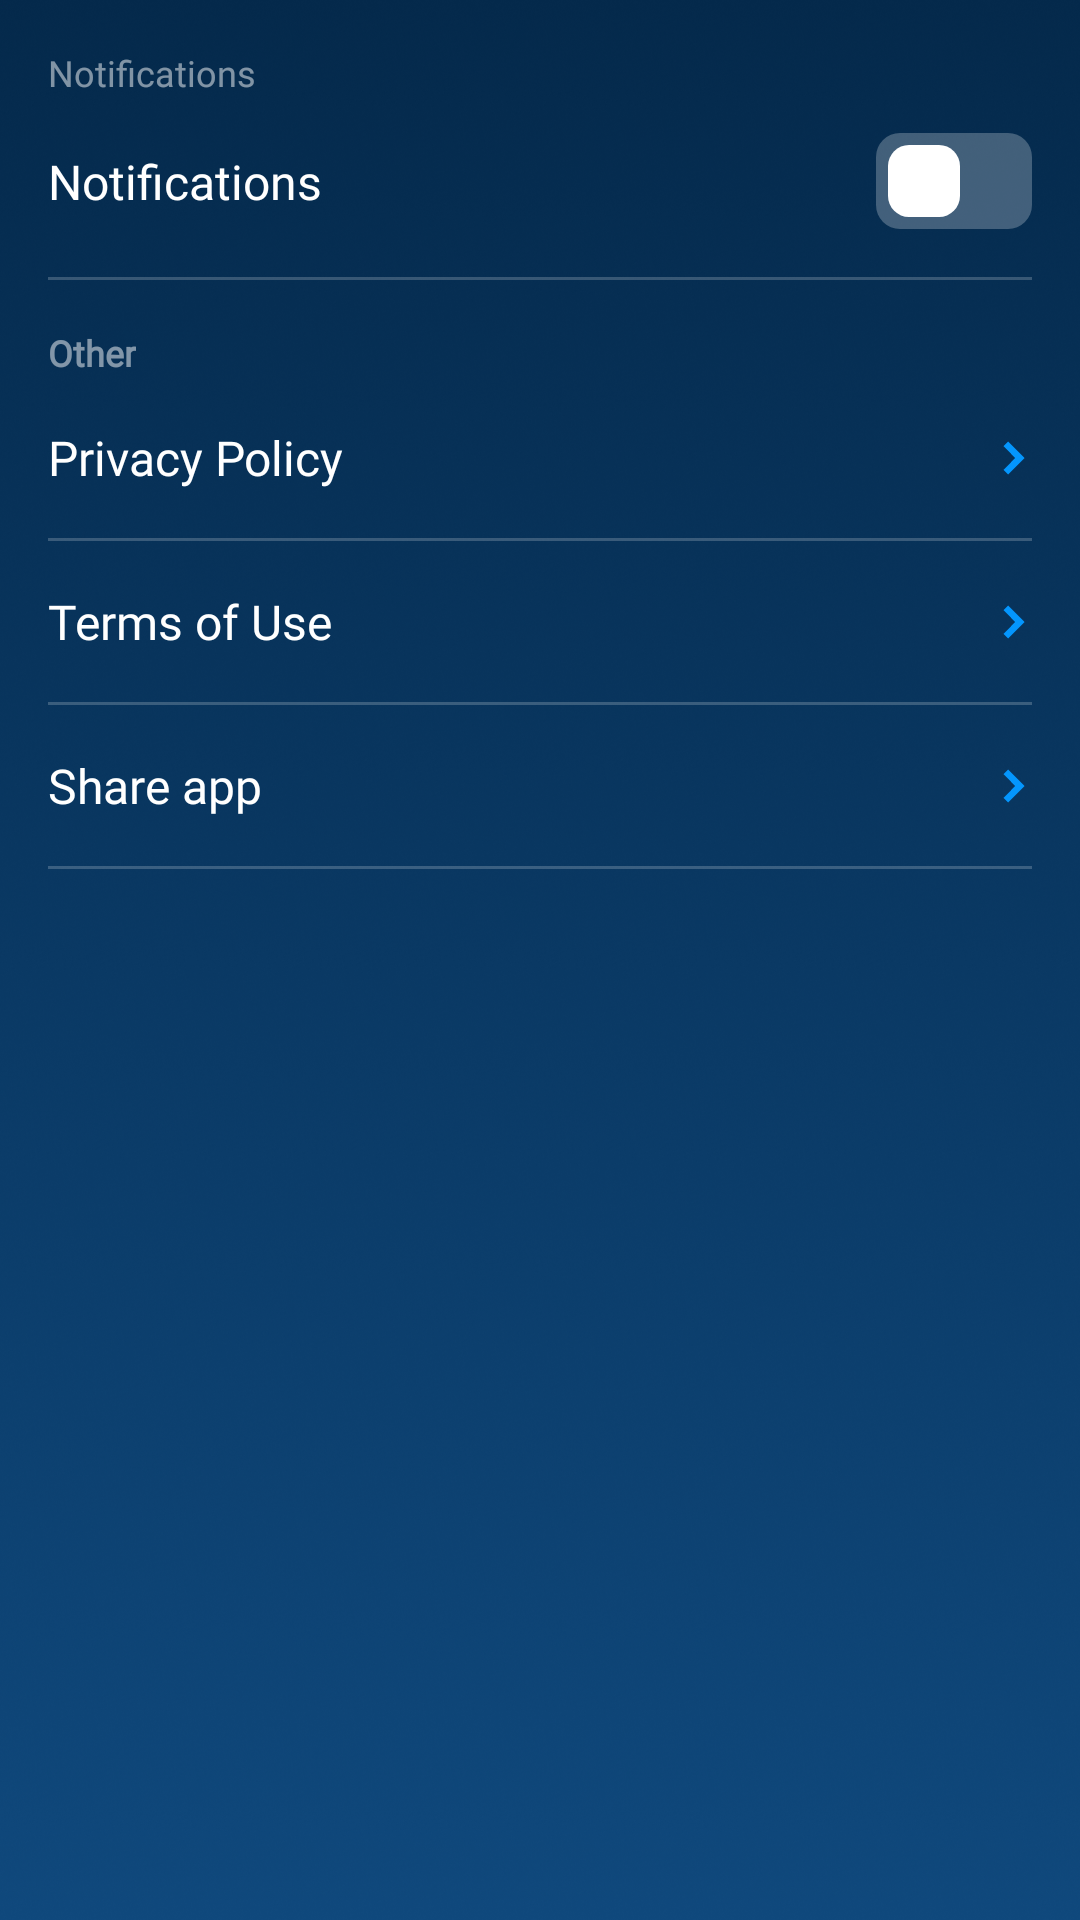

Icon click points for this 1080px×1920px phone screenshot, format (x=x, y=y):
settings arrow: (x=1014, y=458), (x=1014, y=622), (x=1014, y=786)
